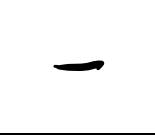minus: (52, 58, 103, 74)
